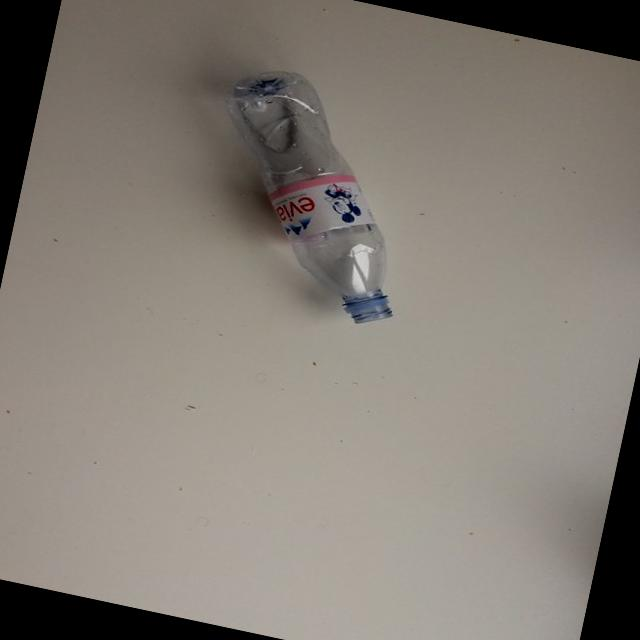Recycle: (184, 62, 442, 330)
